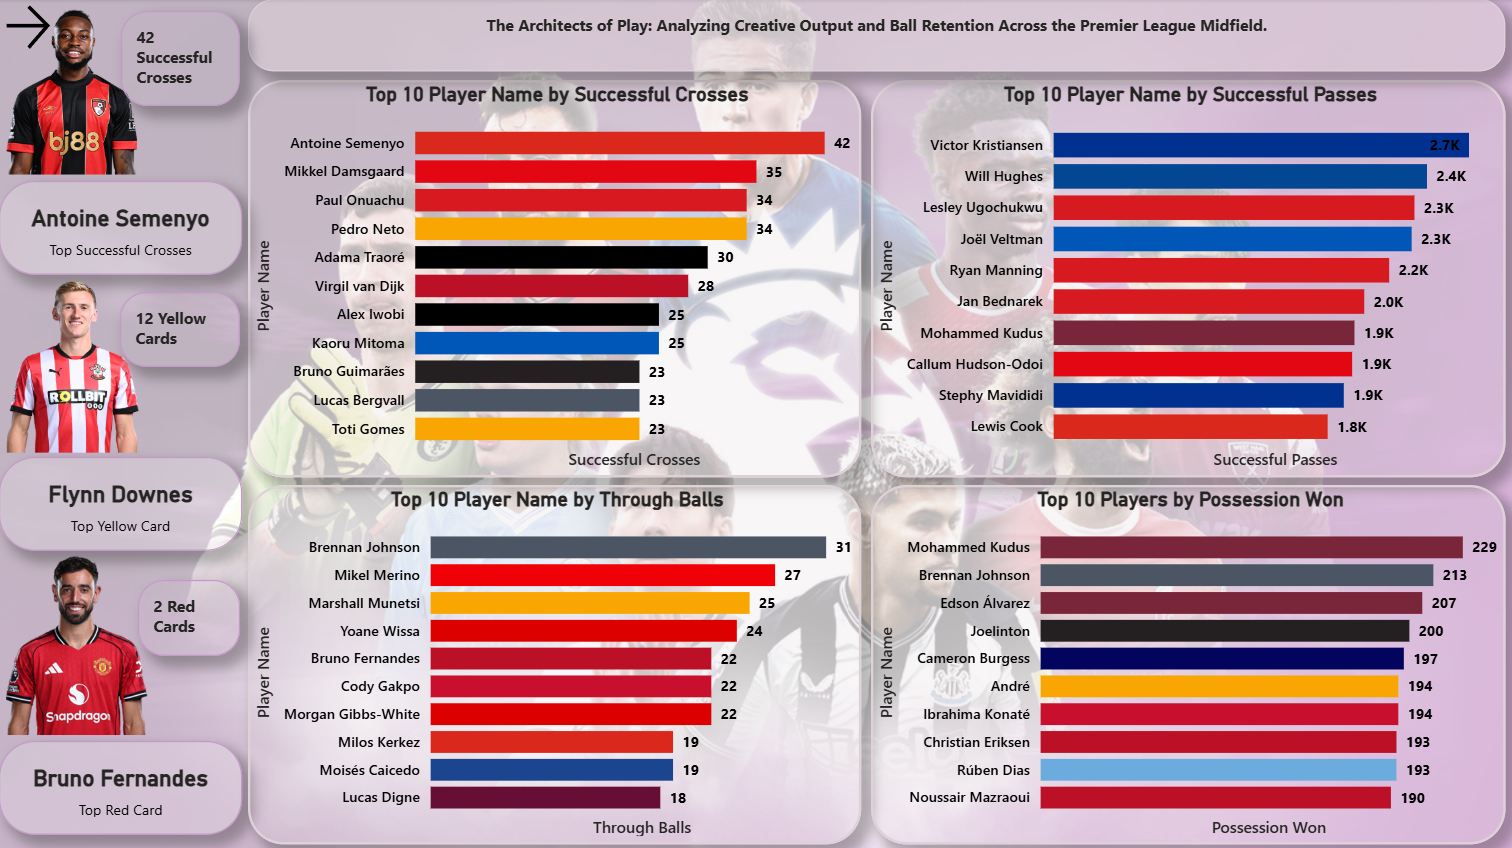

This screenshot's page, from the dashboard's own definition file:
{"tool":"powerbi","page":{"name":"Midfielder Performance Summary","canvas":[1280,720],"ordinal":4},"visuals":[{"type":"card","fields":{"Values":["epl_player_stats_24_25.Top Successful Crosses"]},"box":[0,153.1,205.1,78.8],"z":0},{"type":"card","fields":{"Values":["epl_player_stats_24_25.Top Yellow Card"]},"box":[0,386,205.1,78.8],"z":1000},{"type":"card","fields":{"Values":["epl_player_stats_24_25.Top Red Card"]},"box":[0,626,205.1,78.8],"z":2000},{"type":"clusteredBarChart","title":"Top 10 Player Name by Successful Crosses","fields":{"Category":["epl_player_stats_24_25.Player Name"],"Y":["Sum(epl_player_stats_24_25.Successful Crosses)"]},"box":[210.1,68.1,517.4,334.6],"z":3000},{"type":"clusteredBarChart","title":"Top 10 Player Name by Through Balls","fields":{"Category":["epl_player_stats_24_25.Player Name"],"Y":["Sum(epl_player_stats_24_25.Through Balls)"]},"box":[210.1,409.5,517.4,303.5],"z":4000},{"type":"clusteredBarChart","title":"Top 10 Player Name by Successful Passes","fields":{"Category":["epl_player_stats_24_25.Player Name"],"Y":["Sum(epl_player_stats_24_25.Successful Passes)"]},"box":[735.3,68.1,535,334.6],"z":5000},{"type":"clusteredBarChart","title":"Top 10 Players by Possession Won","fields":{"Category":["epl_player_stats_24_25.Player Name"],"Y":["Sum(epl_player_stats_24_25.Possession Won)"]},"box":[735.3,409.5,535,303.5],"z":6000},{"type":"textbox","box":[210.1,0,1060.2,61.3],"z":7000},{"type":"image","box":[0,0,124.5,153.1],"z":8000},{"type":"textbox","box":[103,9.9,100.3,79.7],"z":9000},{"type":"image","box":[0,228.4,124.5,162.1],"z":10000},{"type":"textbox","box":[102.1,247.2,101.2,62.7],"z":11000},{"type":"textbox","box":[117.3,489.9,86,64.5],"z":12000},{"type":"image","box":[0,464.8,130.7,161.2],"z":13000},{"type":"actionButton","box":[0,0,52.8,47.5],"z":14000}]}

Visuals, with their boxes in screenshot pixels (x1, y1, x2, y2), scaled from the page's 1280x720 canvas onto the 1512x848 screenshot:
card - epl_player_stats_24_25.Top Successful Crosses: <bbox>0, 180, 242, 273</bbox>
card - epl_player_stats_24_25.Top Yellow Card: <bbox>0, 455, 242, 547</bbox>
card - epl_player_stats_24_25.Top Red Card: <bbox>0, 737, 242, 830</bbox>
"Top 10 Player Name by Successful Crosses" clusteredBarChart: <bbox>248, 80, 859, 474</bbox>
"Top 10 Player Name by Through Balls" clusteredBarChart: <bbox>248, 482, 859, 840</bbox>
"Top 10 Player Name by Successful Passes" clusteredBarChart: <bbox>869, 80, 1501, 474</bbox>
"Top 10 Players by Possession Won" clusteredBarChart: <bbox>869, 482, 1501, 840</bbox>
textbox: <bbox>248, 0, 1501, 72</bbox>
image: <bbox>0, 0, 147, 180</bbox>
textbox: <bbox>122, 12, 240, 106</bbox>
image: <bbox>0, 269, 147, 460</bbox>
textbox: <bbox>121, 291, 240, 365</bbox>
textbox: <bbox>139, 577, 240, 653</bbox>
image: <bbox>0, 547, 154, 737</bbox>
actionButton: <bbox>0, 0, 62, 56</bbox>
